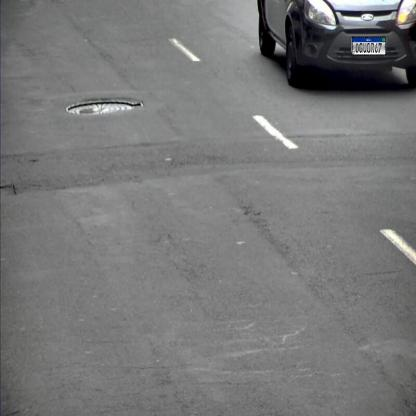PlacaM: (352, 37, 386, 55)
